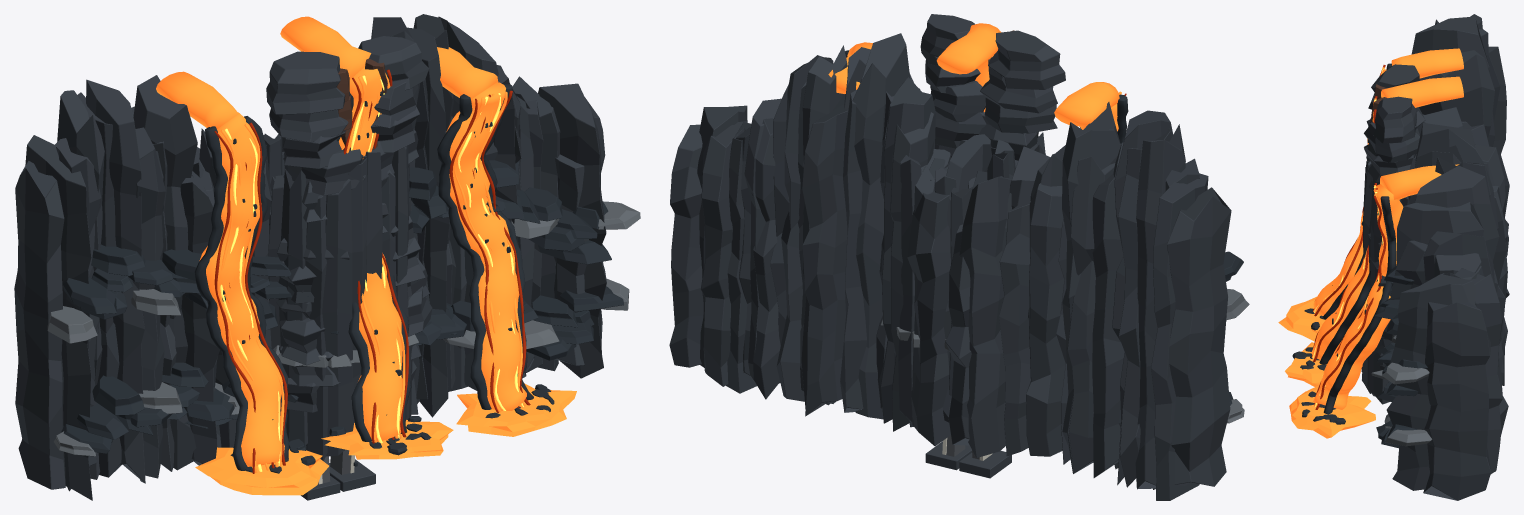
The model's file is cindercoil-hero-kit-v3.glb.
The picture shows the model from 3 angles, left to right: view 1: azimuth 30°, elevation 25°; view 2: azimuth 150°, elevation 25°; view 3: azimuth 270°, elevation 25°; orthographic projection. The views are drawn at different scales.
Visible parts, largest first — view 1: rupture_wall__Basalt, rupture_wall__Blackglass, hollow_tower__Basalt, cascade_0__Lava, cascade_2__Lava, rupture_left__Basalt, cascade_1__Lava, rupture_right__Basalt, rupture_wall__Ash, cascade_0__Blackglass, cascade_2__Blackglass, cascade_1__Blackglass (+7 smaller); view 2: rupture_wall__Basalt, rupture_left__Basalt, hollow_tower__Basalt, rupture_right__Basalt, cascade_1__Lava, cascade_0__Lava, broken_launch_pylon__Basalt, rupture_wall__Ash; view 3: rupture_wall__Basalt, cascade_2__Lava, rupture_right__Basalt, cascade_1__Lava, cascade_0__Lava, cascade_2__Blackglass, hollow_tower__Basalt, rupture_wall__Blackglass, rupture_wall__Ash, cascade_1__Blackglass, rupture_left__Basalt, cascade_2__Lava.002 (+3 smaller).
Part boxes in pixels (x1,y1,x2,y2): rupture_wall__Basalt: (14,14,606,500); rupture_wall__Blackglass: (61,160,623,453); hollow_tower__Basalt: (252,119,412,460); cascade_0__Lava: (156,71,328,495); cascade_2__Lava: (437,47,576,436); rupture_left__Basalt: (266,51,365,412); cascade_1__Lava: (280,16,453,459); rupture_right__Basalt: (358,36,432,380); rupture_wall__Ash: (47,201,640,456); cascade_0__Blackglass: (194,116,315,473); cascade_2__Blackglass: (437,84,554,418); cascade_1__Blackglass: (329,91,431,455); rupture_wall__Basalt: (669,33,1231,500); rupture_left__Basalt: (978,30,1065,167); hollow_tower__Basalt: (898,132,1045,425); rupture_right__Basalt: (920,14,986,157); cascade_1__Lava: (936,23,1001,112); cascade_0__Lava: (1054,82,1121,131); broken_launch_pylon__Basalt: (925,441,1011,478); rupture_wall__Ash: (1226,289,1249,423); rupture_wall__Basalt: (1386,14,1509,500); cascade_2__Lava: (1289,164,1459,438); rupture_right__Basalt: (1364,96,1419,369); cascade_1__Lava: (1285,76,1463,386); cascade_0__Lava: (1278,48,1463,341); cascade_2__Blackglass: (1301,196,1396,424); hollow_tower__Basalt: (1361,161,1409,404); rupture_wall__Blackglass: (1374,266,1427,448); rupture_wall__Ash: (1371,334,1432,446); cascade_1__Blackglass: (1292,250,1371,370); rupture_left__Basalt: (1361,64,1425,225); cascade_2__Lava.002: (1314,183,1386,409).
Bounding box in the file's own units: 485 × 364 × 216.
